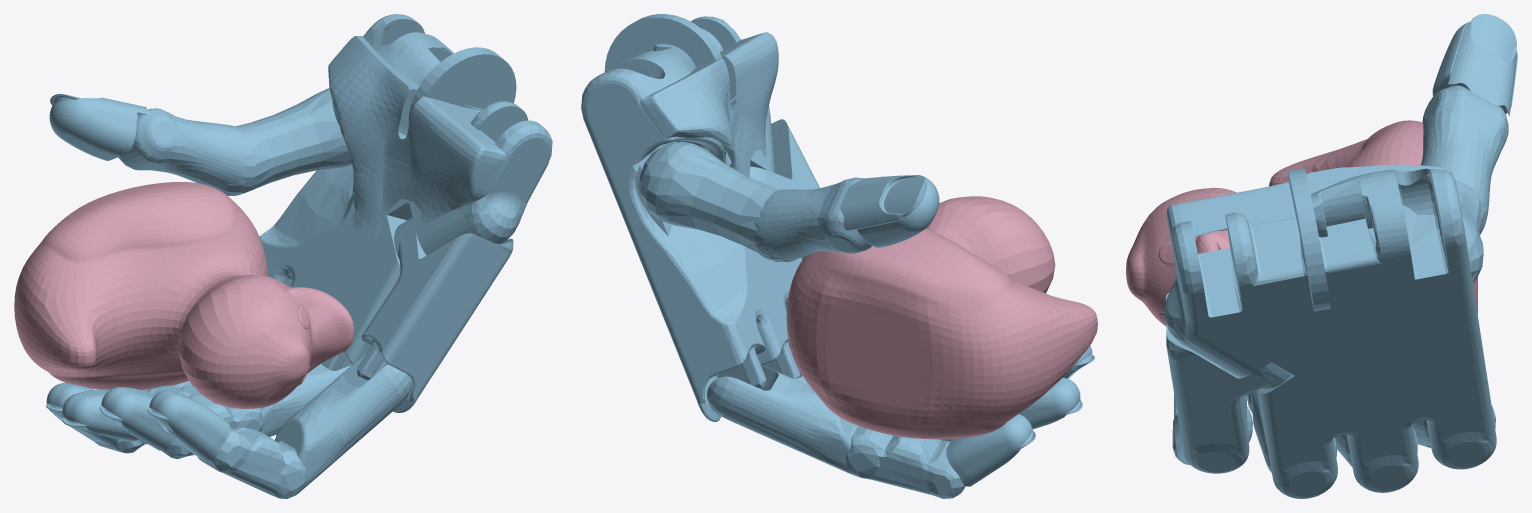
3 views of the same model, side by side, from view 1: azimuth 30°, elevation 25°; view 2: azimuth 150°, elevation 25°; view 3: azimuth 270°, elevation 25° (orthographic). The views are drawn at different scales.
Visible parts, largest first — view 1: world; view 2: world; view 3: world.
Boxes of the visible parts, x1,y1,x2,y2 form: world: (14, 14, 552, 498); world: (581, 14, 1097, 498); world: (1126, 14, 1517, 498).
Size of the model in its own units: 0.1707 by 0.126 by 0.1068.
